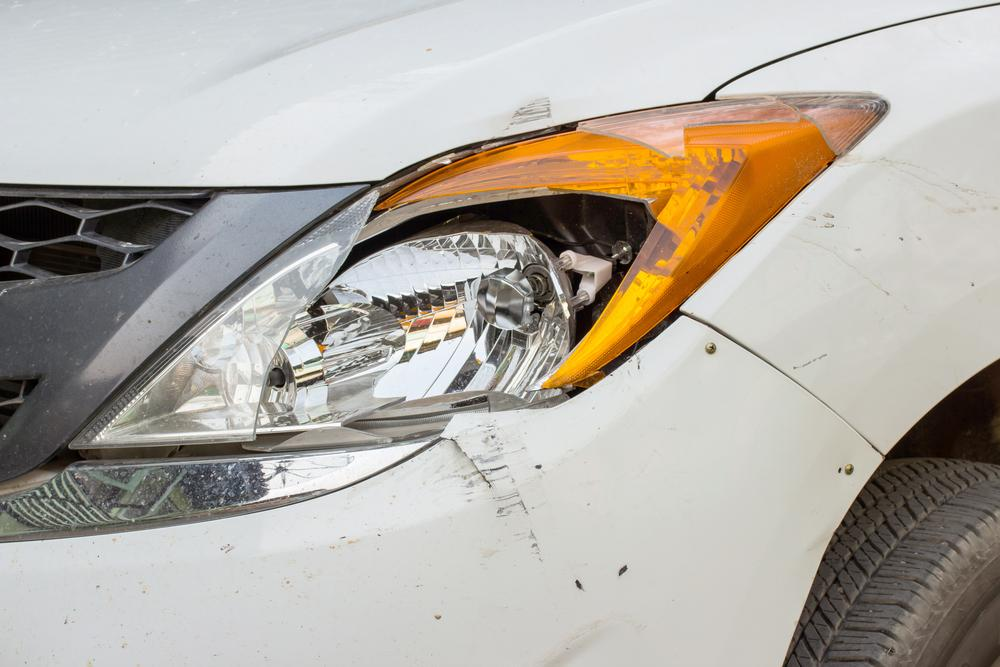crack: (440, 437, 497, 490)
lamp broken: (63, 91, 886, 452)
scratch: (450, 428, 545, 567)
